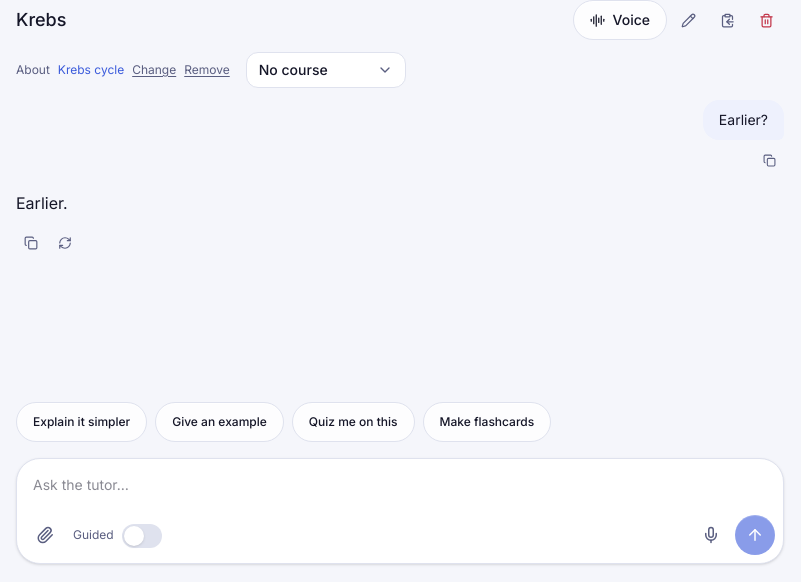
Test: following a reply › stays put when the student has scrolled up, offers Latest, and the button takes them to the newest text
(page scrolled)
In the text box named "Message": (404, 489) [33,467,775,511], type "Why?"
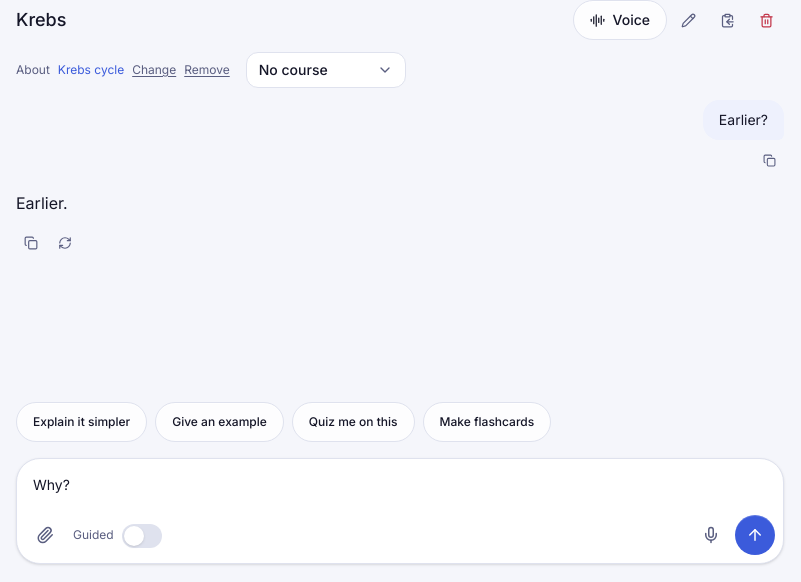
Click the button named "Send": (755, 535) [735,515,775,555]
(page scrolled)
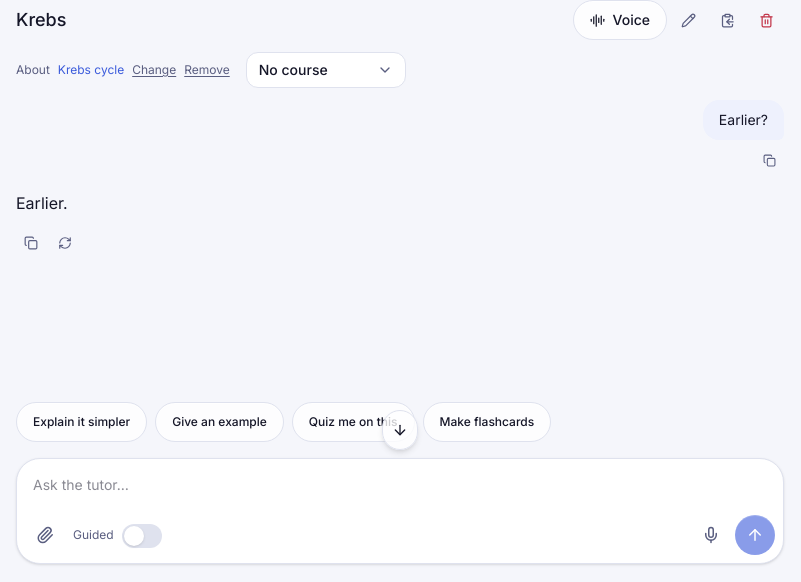
Expected: the button named "Jump to latest" is shown
Click the button named "Jump to latest": (400, 430) [382,410,418,450]
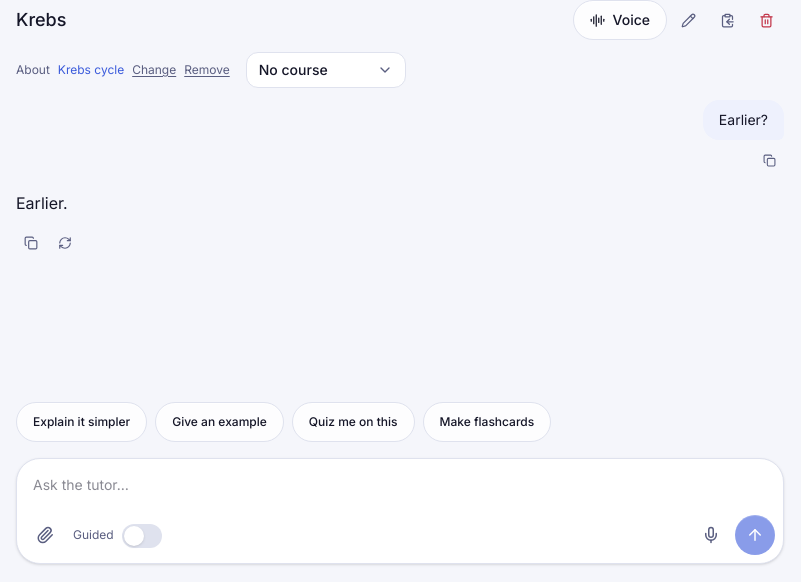
Expected: the button "Jump to latest" is gone
